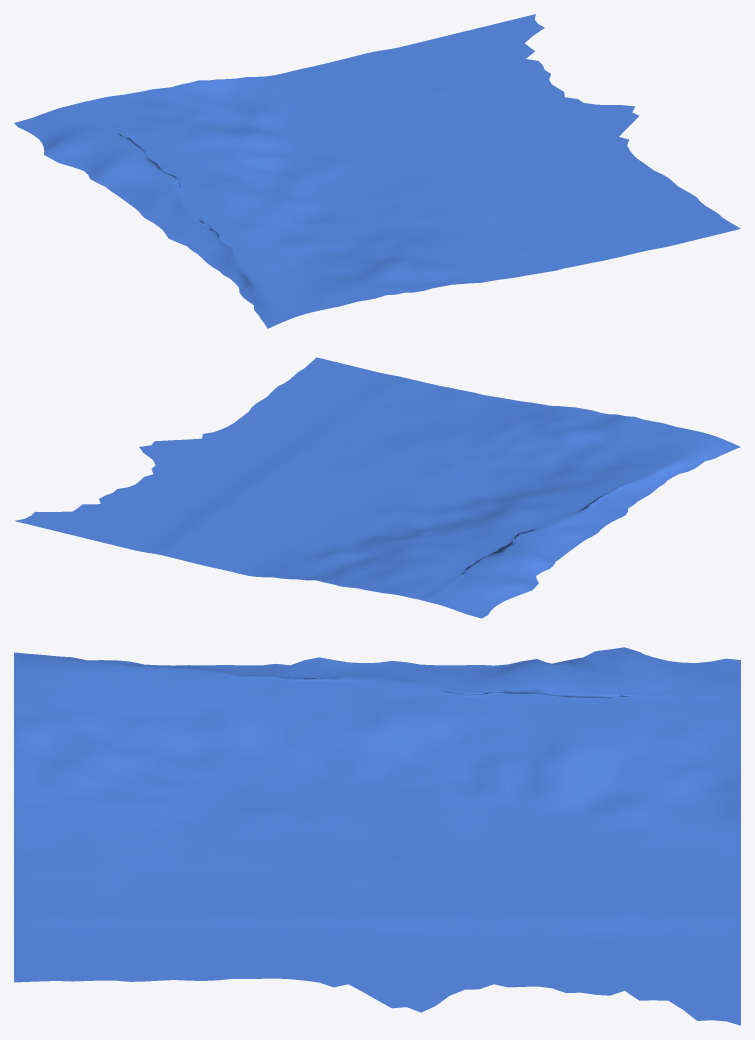
File: sea_vat.fbx
The picture shows the model from 3 angles, top to bottom: view 1: azimuth 30°, elevation 25°; view 2: azimuth 150°, elevation 25°; view 3: azimuth 270°, elevation 25°; orthographic projection. The views are drawn at different scales.
Visible parts, largest first — view 1: sea_vat; view 2: sea_vat; view 3: sea_vat.
Boxes of the visible parts, left/top/right/bottom form: sea_vat: left=14, top=14, right=740, bottom=328; sea_vat: left=15, top=357, right=740, bottom=618; sea_vat: left=14, top=647, right=740, bottom=1025.
Size of the model in its own units: 2295 by 106 by 2000.
